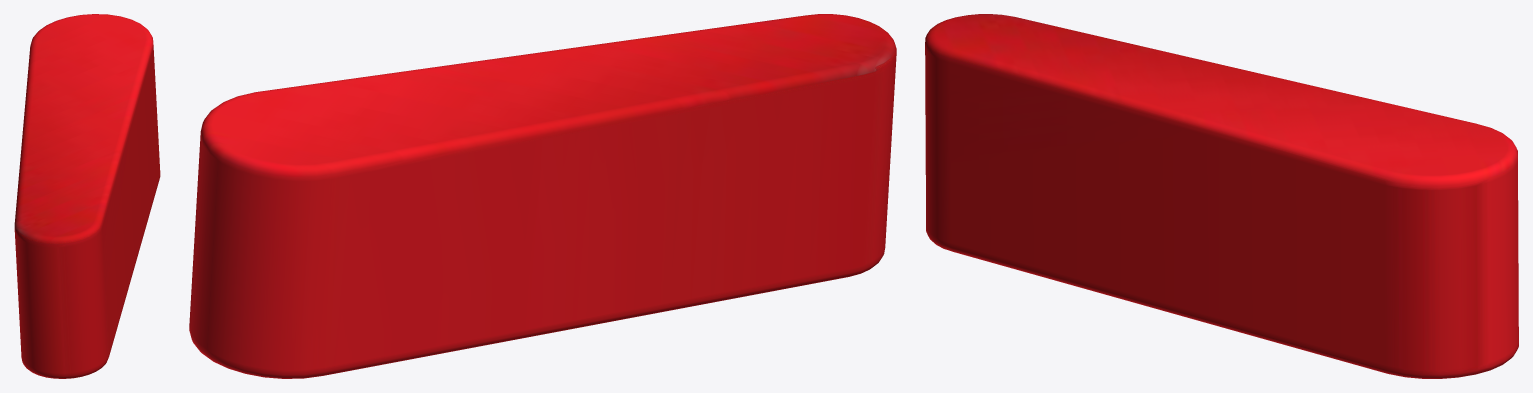
Rendered from paleta_superior_izq.obj.
3 views of the same model, side by side, from view 1: azimuth 30°, elevation 25°; view 2: azimuth 150°, elevation 25°; view 3: azimuth 270°, elevation 25° (orthographic). The views are drawn at different scales.
Visible parts, largest first — view 1: paleta_superior_izq; view 2: paleta_superior_izq; view 3: paleta_superior_izq.
Boxes of the visible parts, x1,y1,x2,y2 form: paleta_superior_izq: (14,14,160,378); paleta_superior_izq: (189,14,896,378); paleta_superior_izq: (925,14,1518,378).
Bounding box in the file's own units: 0.8867 × 0.4634 × 1.13.
